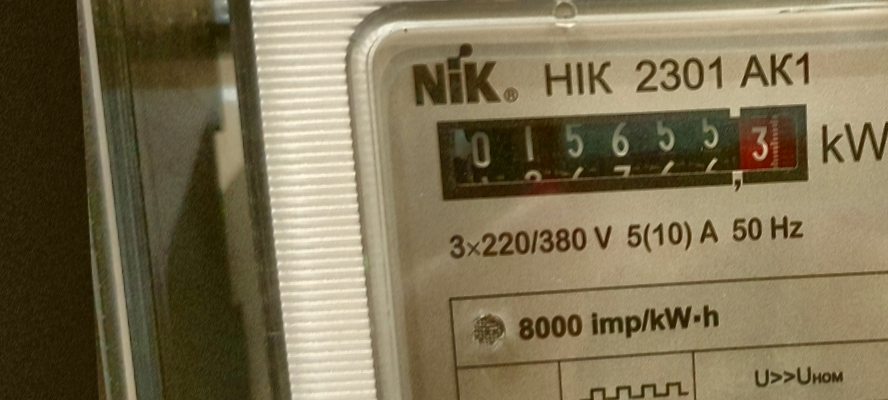0: (468, 128, 495, 170)
1: (520, 125, 540, 164)
3: (750, 125, 771, 162)
5: (562, 123, 588, 160), (655, 120, 679, 153), (702, 117, 722, 151)
6: (609, 122, 633, 159)
screen: (423, 85, 826, 218)
